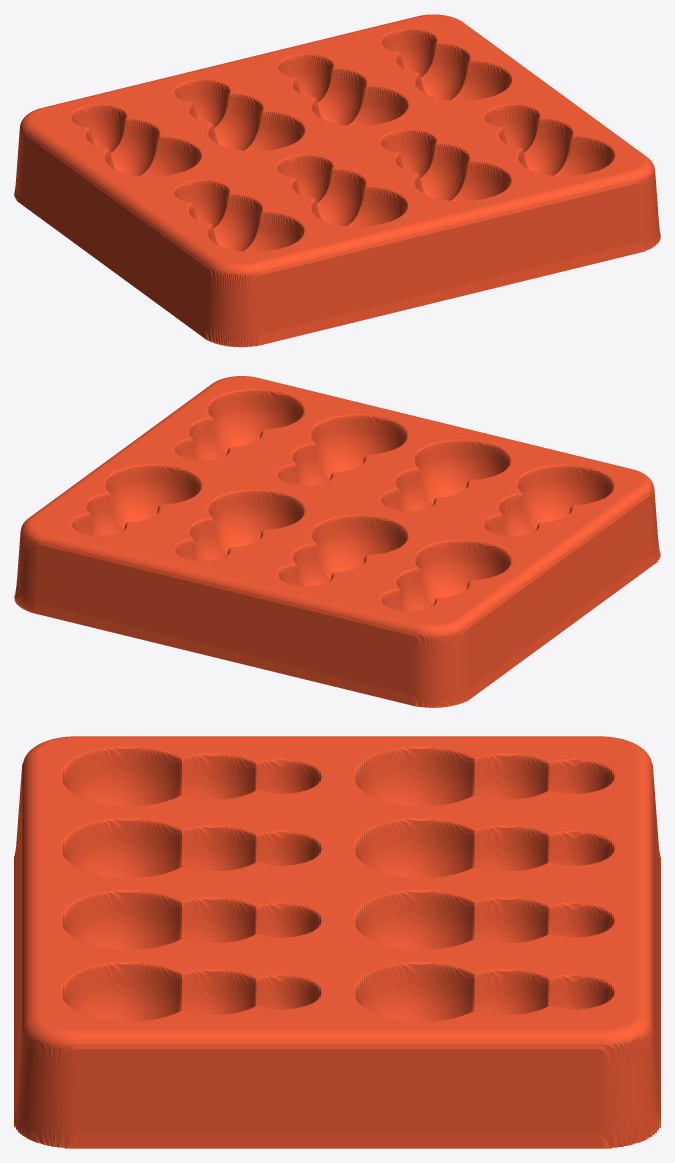
File: mold.glb
The picture shows the model from 3 angles, top to bottom: view 1: azimuth 30°, elevation 25°; view 2: azimuth 150°, elevation 25°; view 3: azimuth 270°, elevation 25°; orthographic projection. The views are drawn at different scales.
Visible parts, largest first — view 1: geometry_0; view 2: geometry_0; view 3: geometry_0.
Part boxes in pixels (bbox=[...]): geometry_0: bbox=[14, 14, 660, 347]; geometry_0: bbox=[14, 376, 660, 707]; geometry_0: bbox=[14, 736, 660, 1148].
Bounding box in the file's own units: 0.1088 × 0.0175 × 0.095.
